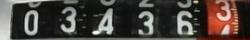digits: (94, 7, 118, 34), (60, 5, 78, 34), (175, 10, 194, 36), (137, 10, 155, 36), (23, 9, 39, 35), (215, 0, 230, 20)
